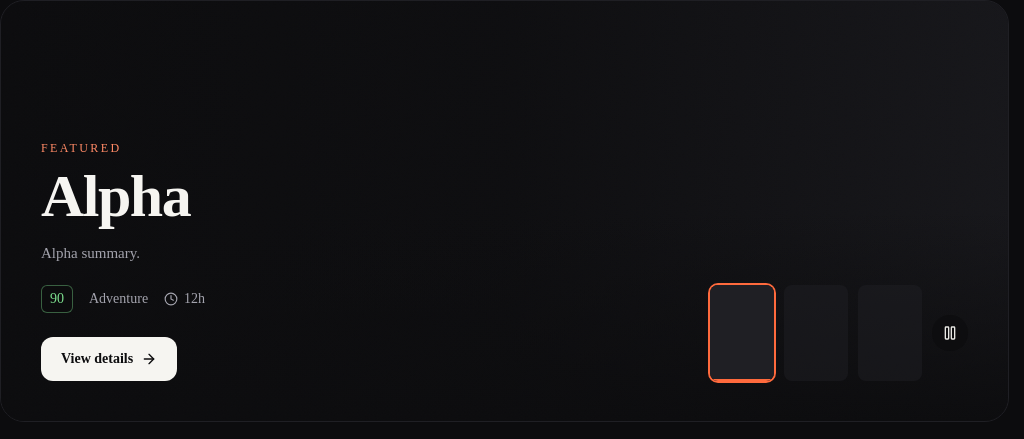
Test: the pause control stops it until pressed again
Click the button named "Pause the featured games" at (950, 333), box [932,315,968,351]
Wait 20000 ms
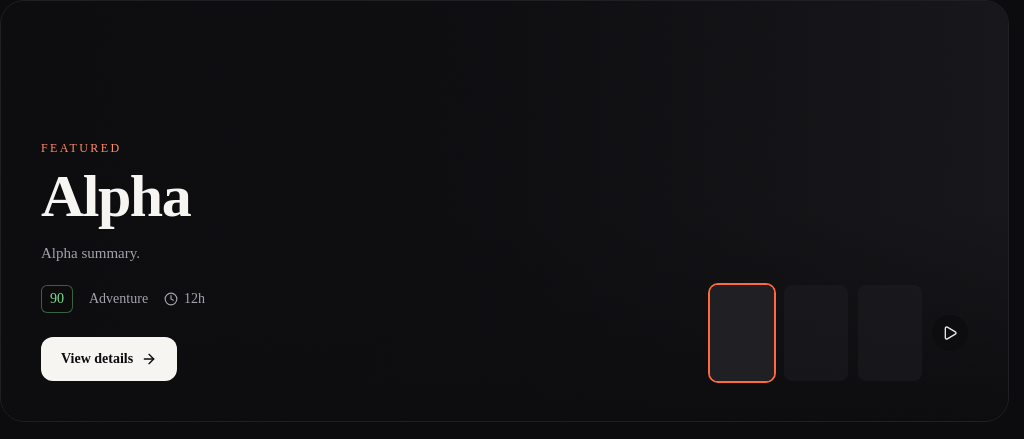
Expected: the heading reads "Alpha", [41,163,190,229]
Click the button named "Play the featured games" at (950, 333), box [932,315,968,351]
Wait 7000 ms
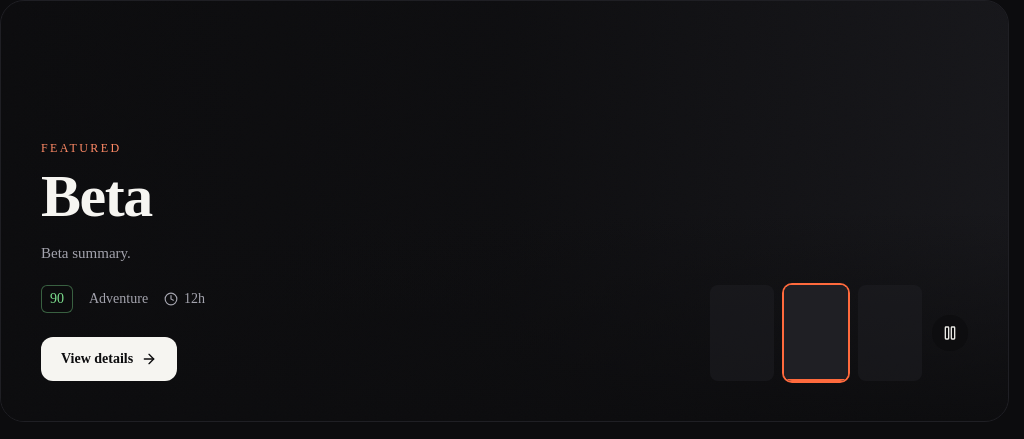
Result: the heading reads "Beta" at [41,163,152,229]
